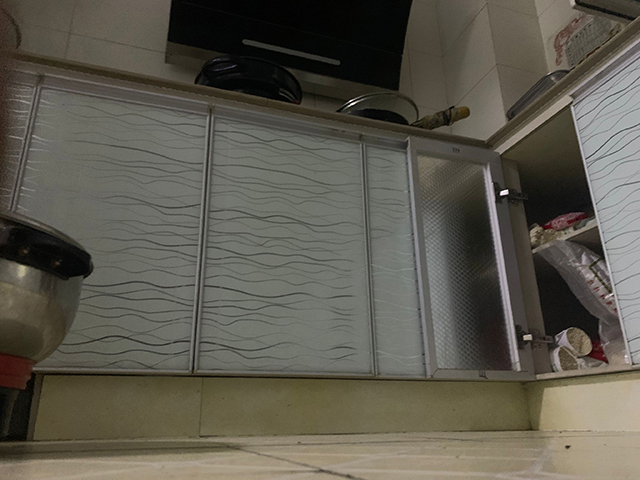cabinet: (50, 84, 494, 439)
